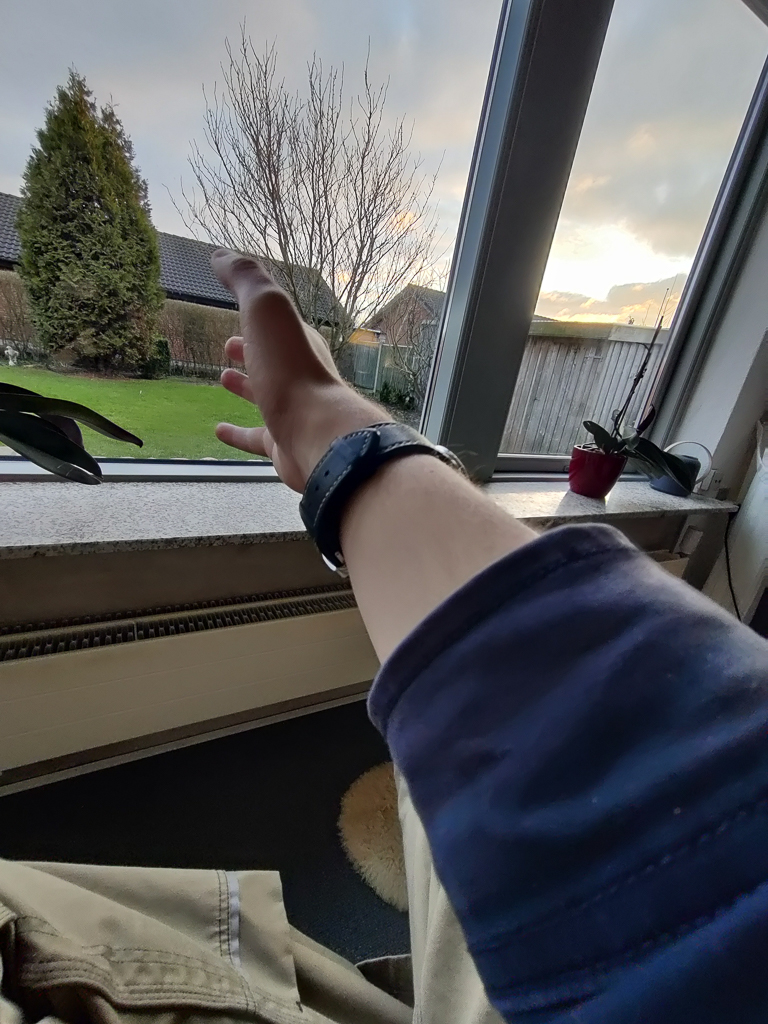Eagle: (2, 343, 21, 369)
Humanoid: (0, 238, 768, 1024)
